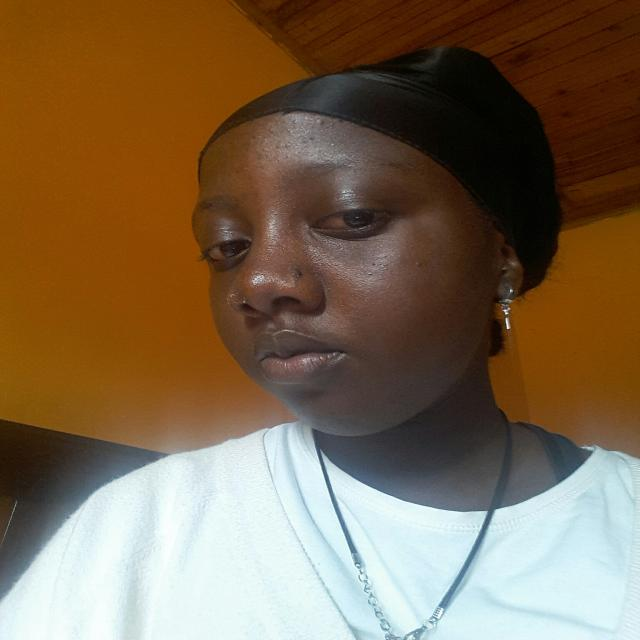Acne: (286, 265, 307, 280), (256, 150, 272, 162), (301, 135, 315, 145), (313, 117, 327, 126), (284, 126, 296, 135), (281, 152, 292, 160), (250, 132, 261, 140), (239, 166, 251, 173), (413, 260, 425, 266), (291, 118, 302, 124), (365, 270, 373, 278), (241, 194, 250, 201), (283, 142, 292, 148), (268, 127, 276, 132), (262, 137, 270, 142), (370, 262, 377, 266)
